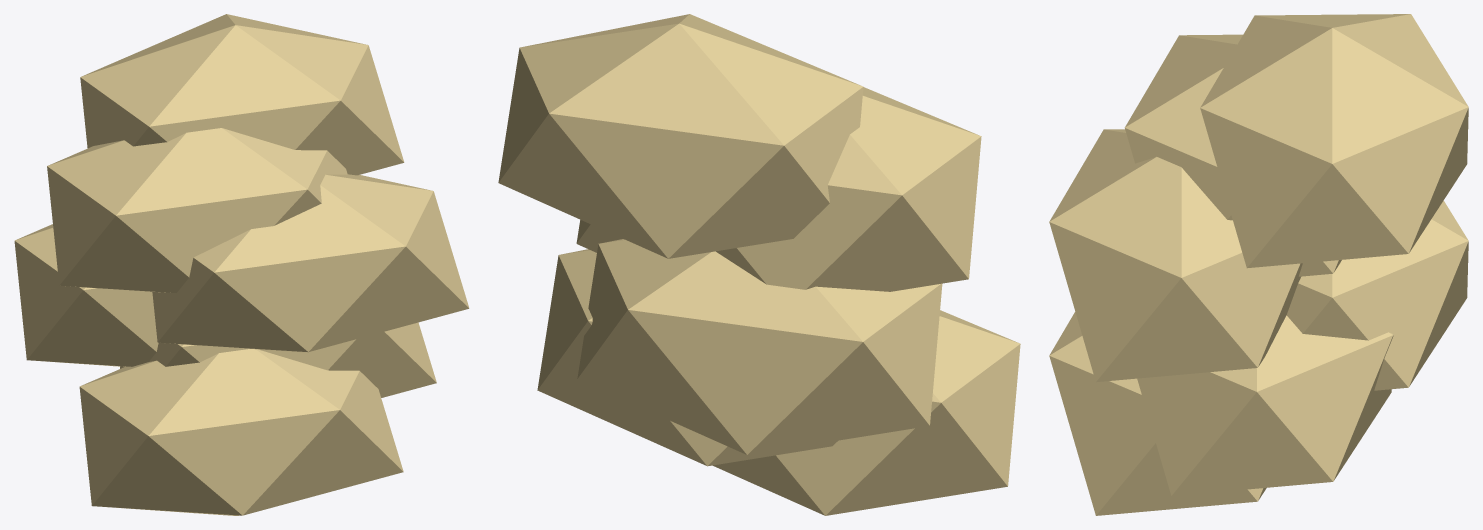
Rendered from item_030_flax_seed_l.glb.
The picture shows the model from 3 angles, left to right: view 1: azimuth 30°, elevation 25°; view 2: azimuth 150°, elevation 25°; view 3: azimuth 270°, elevation 25°; orthographic projection. The views are drawn at different scales.
Visible parts, largest first — view 1: item_030_flax_seed_l; view 2: item_030_flax_seed_l; view 3: item_030_flax_seed_l.
Boxes of the visible parts, box(x1,y1,x2,y2) form: item_030_flax_seed_l: box(14, 14, 469, 515); item_030_flax_seed_l: box(498, 14, 1020, 515); item_030_flax_seed_l: box(1049, 14, 1468, 515).
Size of the model in its own units: 0.364 by 0.4347 by 0.3336.
